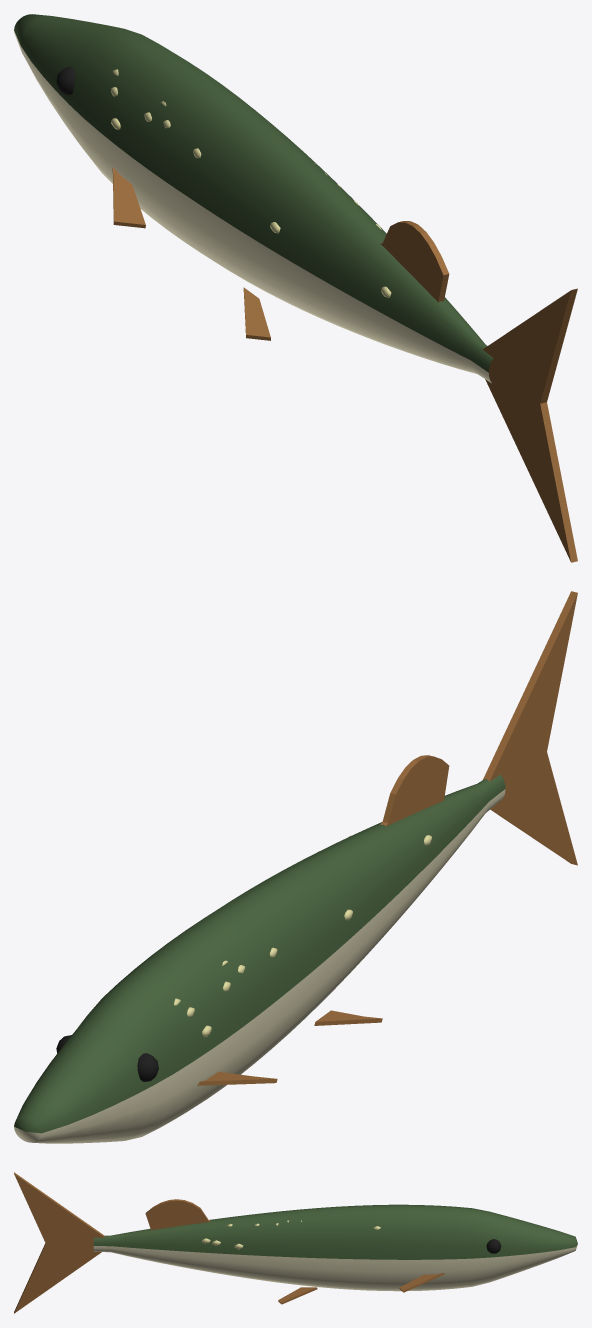
Rendered from pike.fbx.
The picture shows the model from 3 angles, top to bottom: view 1: azimuth 30°, elevation 25°; view 2: azimuth 150°, elevation 25°; view 3: azimuth 270°, elevation 25°; orthographic projection. The views are drawn at different scales.
Parts seen in each view (by area): view 1: Back, Fin, Belly; view 2: Back, Belly, Fin; view 3: Back, Belly, Fin.
Boxes of the visible parts, left/top/right/bottom form: Back: left=14, top=14, right=493, bottom=372; Fin: left=112, top=167, right=577, bottom=562; Belly: left=14, top=31, right=491, bottom=383; Back: left=14, top=774, right=505, bottom=1133; Belly: left=14, top=789, right=505, bottom=1143; Fin: left=197, top=591, right=577, bottom=1085; Back: left=93, top=1204, right=577, bottom=1259; Belly: left=93, top=1244, right=577, bottom=1291; Fin: left=14, top=1172, right=444, bottom=1313.
Size of the model in its own units: 84.5 by 135 by 491.
